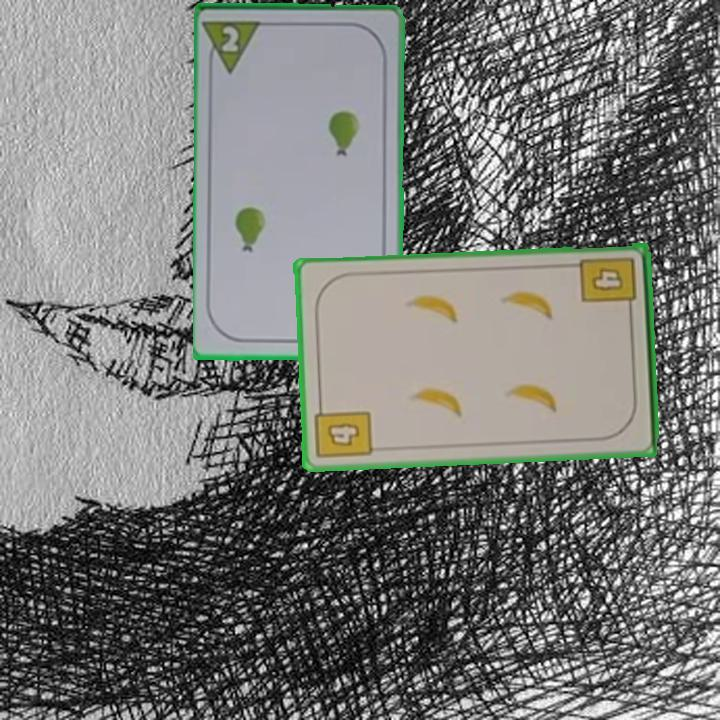2p: (203, 17, 268, 77)
4b: (312, 398, 375, 462), (577, 254, 640, 317)
